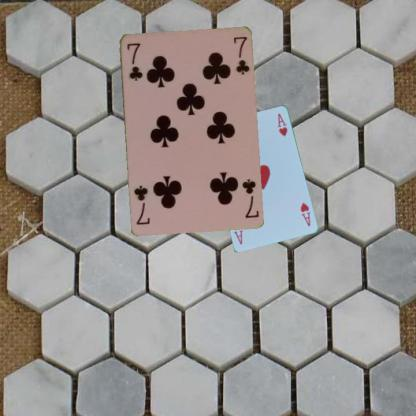7c: (239, 176, 260, 219), (124, 40, 144, 83)
Ah: (298, 200, 312, 228)
